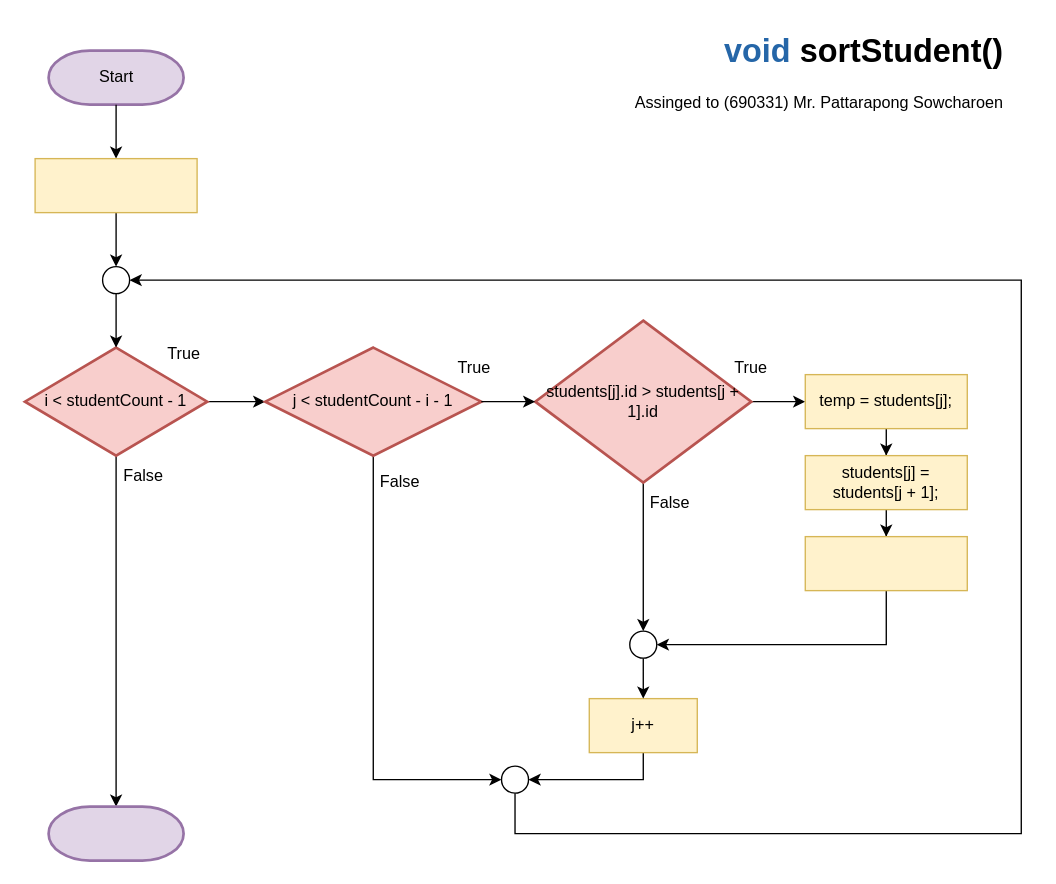
Image size: 1056x884. Some labels were removed from this diagram. The centre of each missing label's shape, as x and y in pixels:
int i = 0, j = 0;: the point at 115,185
Stop: the point at 115,833
students[j + 1] = temp;: the point at 885,563
